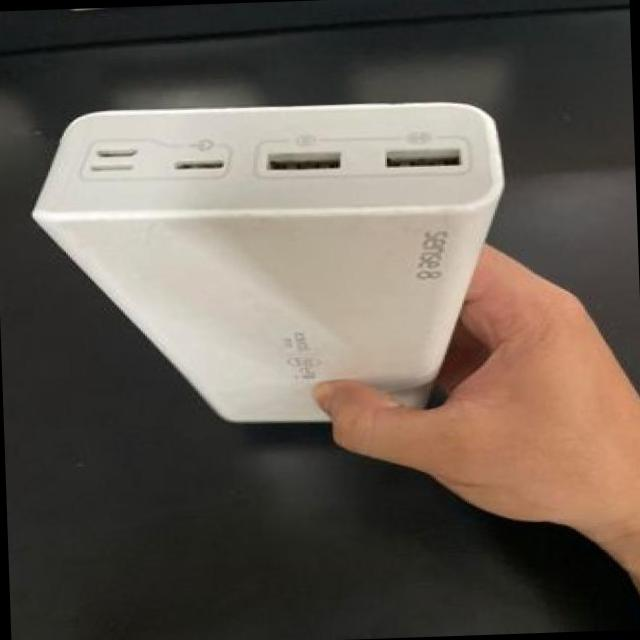portable-charger: (13, 70, 526, 442)
